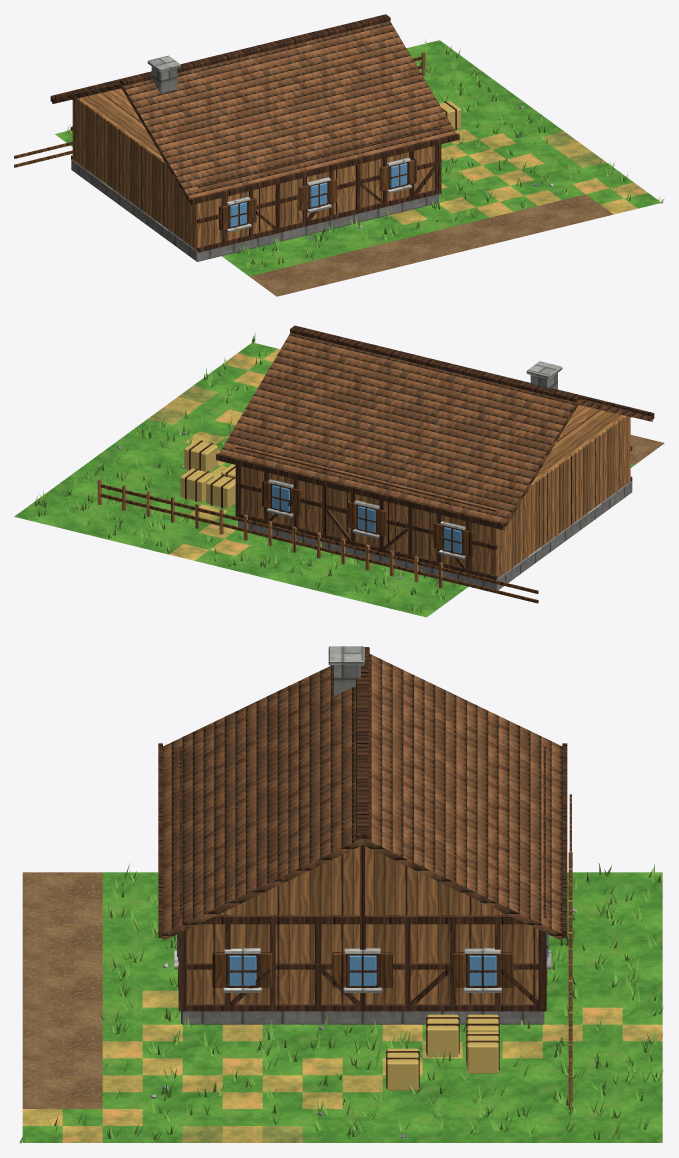
Rendered from chunk_7_12.glb.
3 views of the same model, one above another, from view 1: azimuth 30°, elevation 25°; view 2: azimuth 150°, elevation 25°; view 3: azimuth 270°, elevation 25° (orthographic). The views are drawn at different scales.
Parts seen in each view (by area): view 1: chunk_7_12; view 2: chunk_7_12; view 3: chunk_7_12.
Boxes of the visible parts, left/top/right/bottom form: chunk_7_12: left=14, top=14, right=664, bottom=296; chunk_7_12: left=14, top=325, right=664, bottom=617; chunk_7_12: left=19, top=646, right=663, bottom=1143.
Bounding box in the file's own units: 19.04 × 6.09 × 16.27.
Materials: 16 (13 with a texture image).
